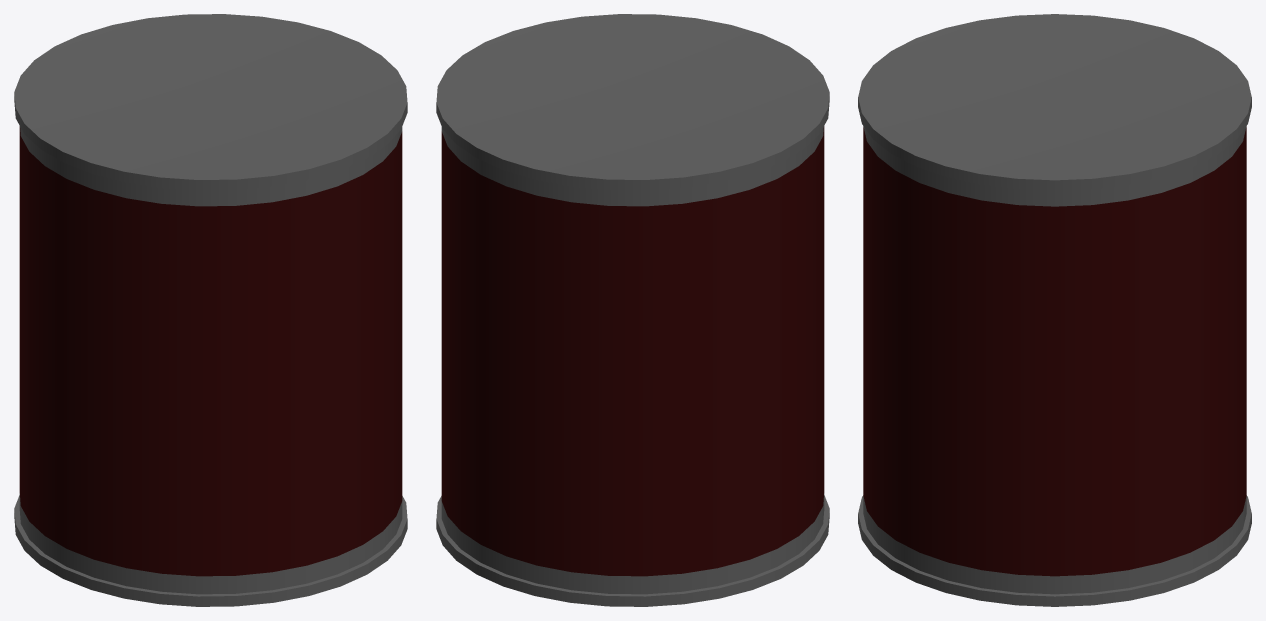
Rendered from UpdatedCerealBoxes.fbx.
3 views of the same model, side by side, from view 1: azimuth 30°, elevation 25°; view 2: azimuth 150°, elevation 25°; view 3: azimuth 270°, elevation 25° (orthographic).
Parts seen in each view (by area): view 1: SM_Can_Beans2; view 2: SM_Can_Beans2; view 3: SM_Can_Beans2.
Part boxes in pixels (box(x1,y1,x2,y2)): SM_Can_Beans2: box(14, 14, 407, 606); SM_Can_Beans2: box(436, 14, 829, 606); SM_Can_Beans2: box(858, 14, 1251, 606).
Bounding box in the file's own units: 9.2 × 11 × 9.2.
